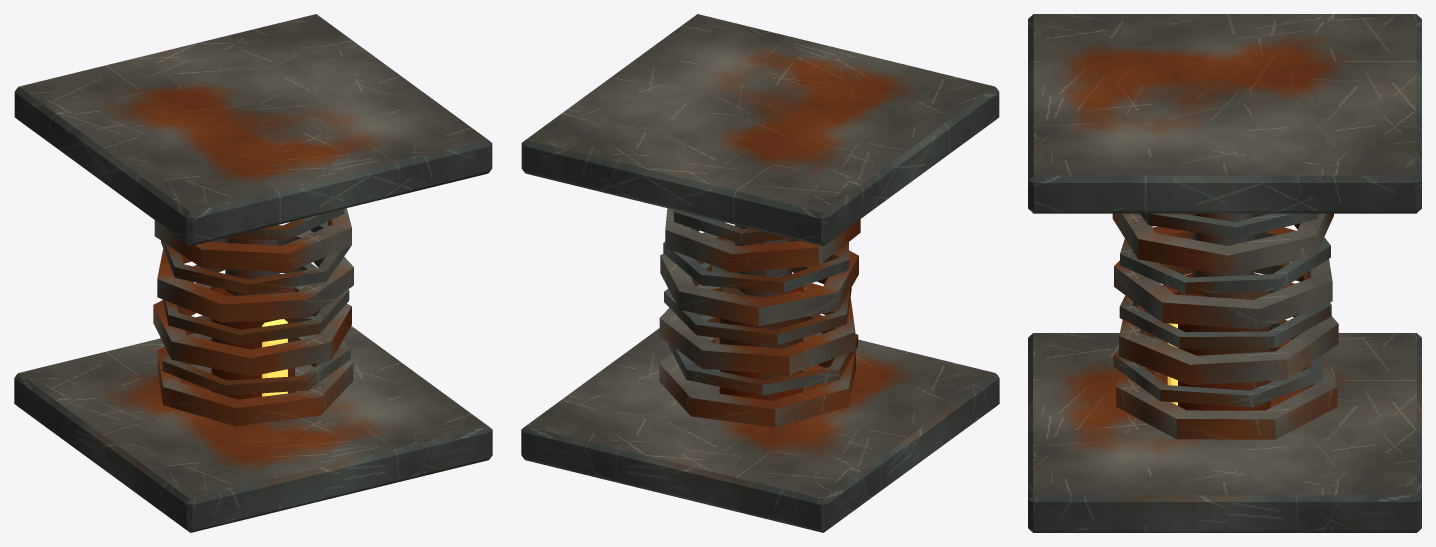
Rendered from R4X_Suspension_LOD1.glb.
3 views of the same model, side by side, from view 1: azimuth 30°, elevation 25°; view 2: azimuth 150°, elevation 25°; view 3: azimuth 270°, elevation 25° (orthographic). The views are drawn at different scales.
Parts seen in each view (by area): view 1: R4X_Suspension_LOD1; view 2: R4X_Suspension_LOD1; view 3: R4X_Suspension_LOD1.
Part boxes in pixels (x1,y1,x2,y2): R4X_Suspension_LOD1: [14, 14, 492, 532]; R4X_Suspension_LOD1: [521, 14, 999, 532]; R4X_Suspension_LOD1: [1028, 14, 1421, 532].
Size of the model in its own units: 0.52 by 0.52 by 0.52.
5 materials, 4 textured.
